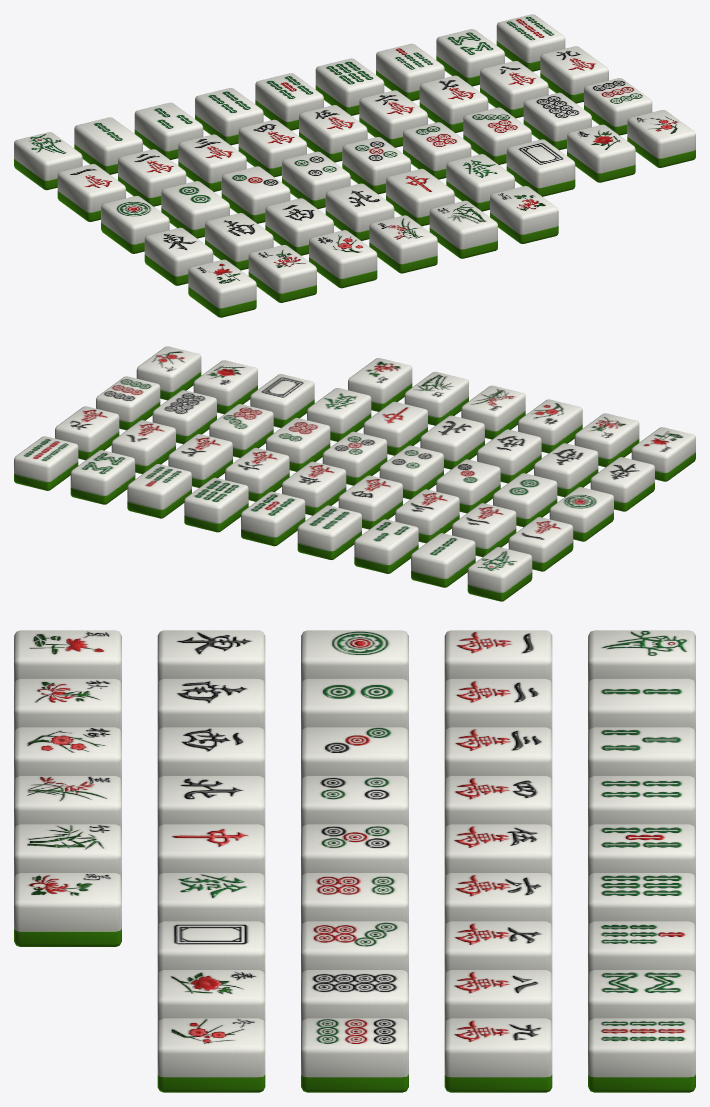
The model's file is HF_Majiang_new.fbx.
3 views of the same model, one above another, from view 1: azimuth 30°, elevation 25°; view 2: azimuth 150°, elevation 25°; view 3: azimuth 270°, elevation 25° (orthographic). The views are drawn at different scales.
Parts seen in each view (by area): view 1: MJ_001_37, MJ_001_35, MJ_001_40, MJ_001_36, MJ_001_41, MJ_001_38, MJ_001_39, MJ_001_42, MJ_001_34, MJ_001_28, MJ_001_01, MJ_001_19 (+30 smaller); view 2: MJ_001_01, MJ_001_08, MJ_001_07, MJ_001_02, MJ_001_04, MJ_001_03, MJ_001_05, MJ_001_06, MJ_001_09, MJ_001_10, MJ_001_19, MJ_001_28 (+30 smaller); view 3: MJ_001_18, MJ_001_36, MJ_001_09, MJ_001_27, MJ_001_42, MJ_001_11, MJ_001_29, MJ_001_02, MJ_001_20, MJ_001_38, MJ_001_13, MJ_001_31 (+30 smaller).
Part boxes in pixels (box(x1,y1,x2,y2)): MJ_001_37: box(188, 259, 256, 317); MJ_001_35: box(567, 124, 635, 182); MJ_001_40: box(369, 215, 437, 273); MJ_001_36: box(627, 110, 695, 167); MJ_001_41: box(429, 200, 497, 258); MJ_001_38: box(248, 245, 316, 302); MJ_001_39: box(309, 230, 377, 288); MJ_001_42: box(490, 186, 558, 243); MJ_001_34: box(506, 139, 575, 196); MJ_001_28: box(144, 227, 213, 285); MJ_001_01: box(14, 132, 82, 190); MJ_001_19: box(101, 196, 169, 253); MJ_001_01: box(467, 547, 532, 601); MJ_001_08: box(70, 450, 135, 504); MJ_001_07: box(127, 464, 191, 518); MJ_001_02: box(411, 533, 475, 587); MJ_001_04: box(297, 505, 361, 559); MJ_001_03: box(354, 519, 418, 573); MJ_001_05: box(241, 491, 305, 546); MJ_001_06: box(184, 477, 248, 532); MJ_001_09: box(14, 436, 78, 490); MJ_001_10: box(508, 517, 573, 571); MJ_001_19: box(549, 487, 613, 541); MJ_001_28: box(590, 457, 654, 511); MJ_001_18: box(444, 1018, 552, 1092); MJ_001_36: box(157, 1018, 265, 1092); MJ_001_09: box(588, 1018, 695, 1092); MJ_001_27: box(301, 1018, 408, 1092); MJ_001_42: box(14, 873, 121, 946); MJ_001_11: box(444, 678, 552, 732); MJ_001_29: box(157, 678, 265, 732); MJ_001_02: box(588, 678, 695, 732); MJ_001_20: box(301, 678, 408, 732); MJ_001_38: box(14, 678, 121, 732); MJ_001_13: box(444, 776, 552, 829); MJ_001_31: box(157, 776, 265, 829).
Bounding box in the file's own units: 34.6 × 1.85 × 23.76.
1 material, 1 textured.
